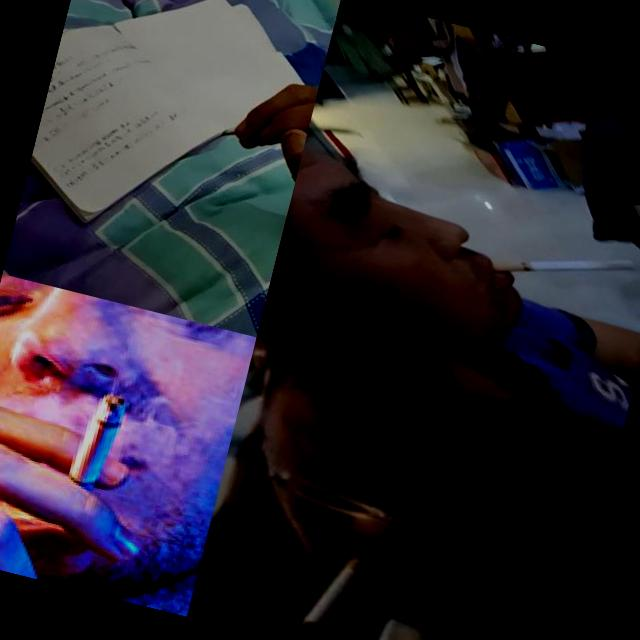cigarette: (488, 228, 637, 304), (297, 540, 371, 639), (66, 384, 122, 490)
